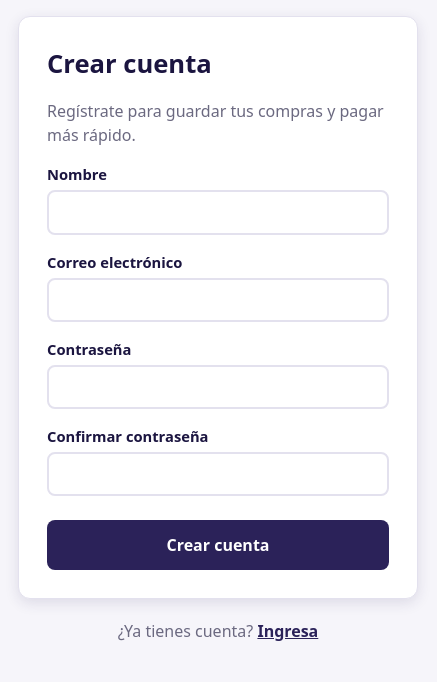
it: Register › avisa cuando las contraseñas no coinciden
Type "Ana López" into the field labelled "Nombre" at (218, 212), box [47, 190, 389, 235]
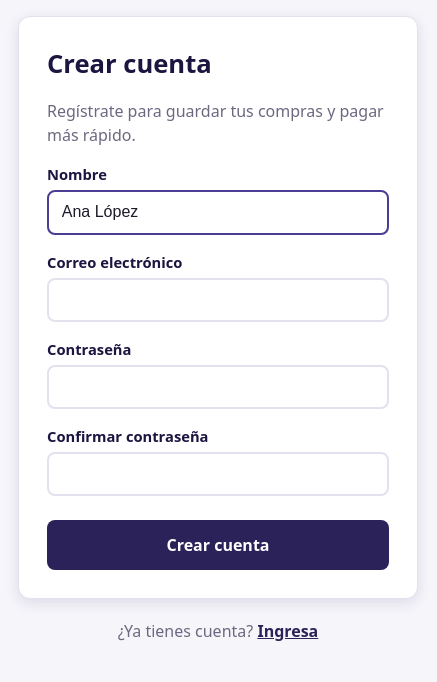
Type "ana@correo.com" into the field labelled "Correo electrónico" at (218, 300), box [47, 278, 389, 322]
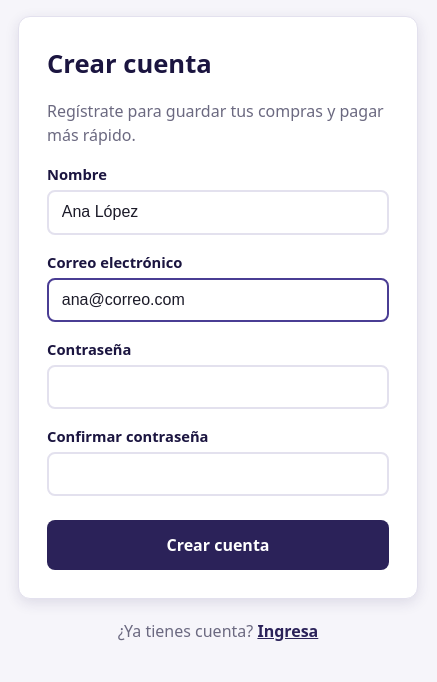
Type "secreto" into the password field labelled "Contraseña" at (218, 387), box [47, 365, 389, 409]
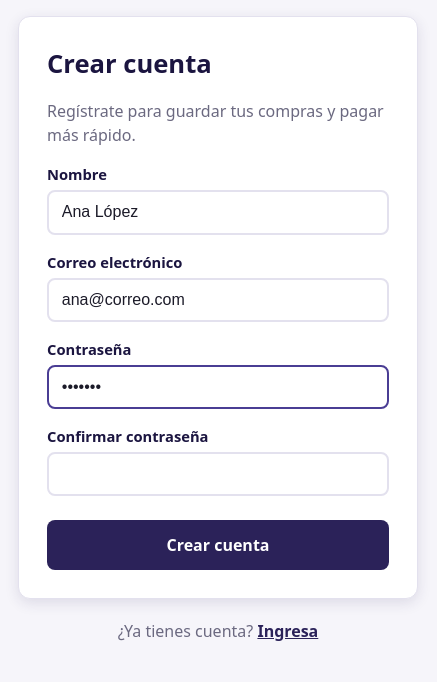
Type "distinta" into the password field labelled "Confirmar contraseña" at (218, 474), box [47, 452, 389, 496]
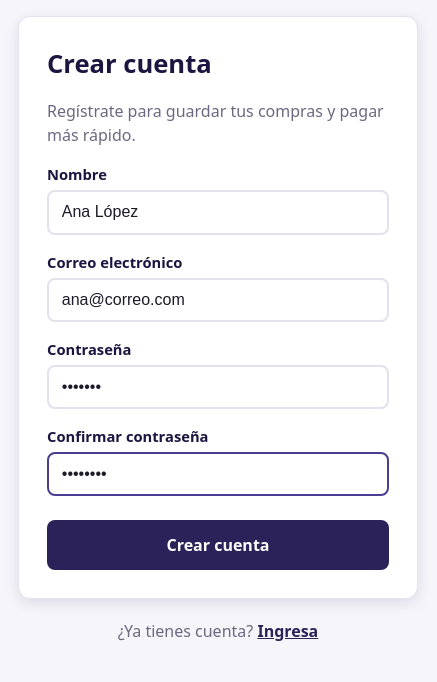
Click the button "Crear cuenta" at (218, 545), box [47, 520, 389, 570]
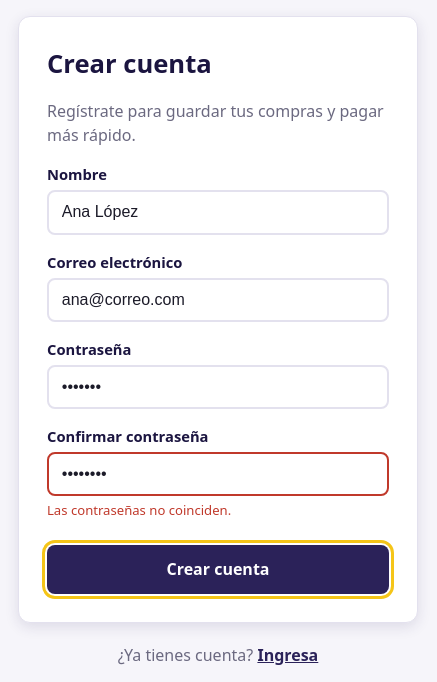
Check: the text "Las contraseñas no coinciden." is shown, box [47, 501, 231, 519]
